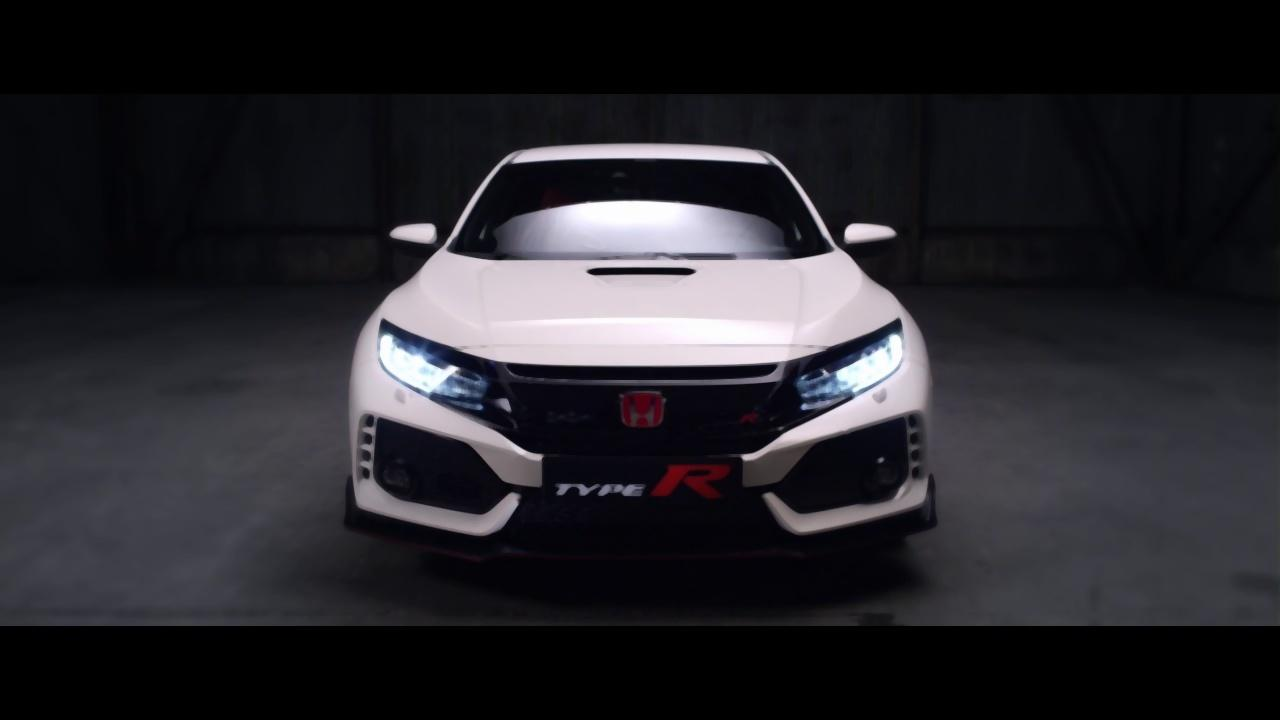Car hood: (372, 242, 906, 369)
Front bumper: (335, 368, 950, 560)
Headlight - -L-: (768, 308, 917, 424)
Headlight - -R-: (366, 310, 512, 419)
Side mirror - -L-: (824, 210, 903, 262)
Side mirror - -R-: (384, 204, 448, 260)
